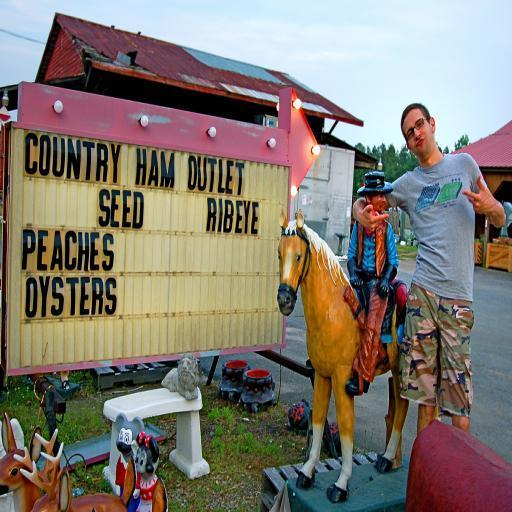horse: (277, 204, 439, 507)
